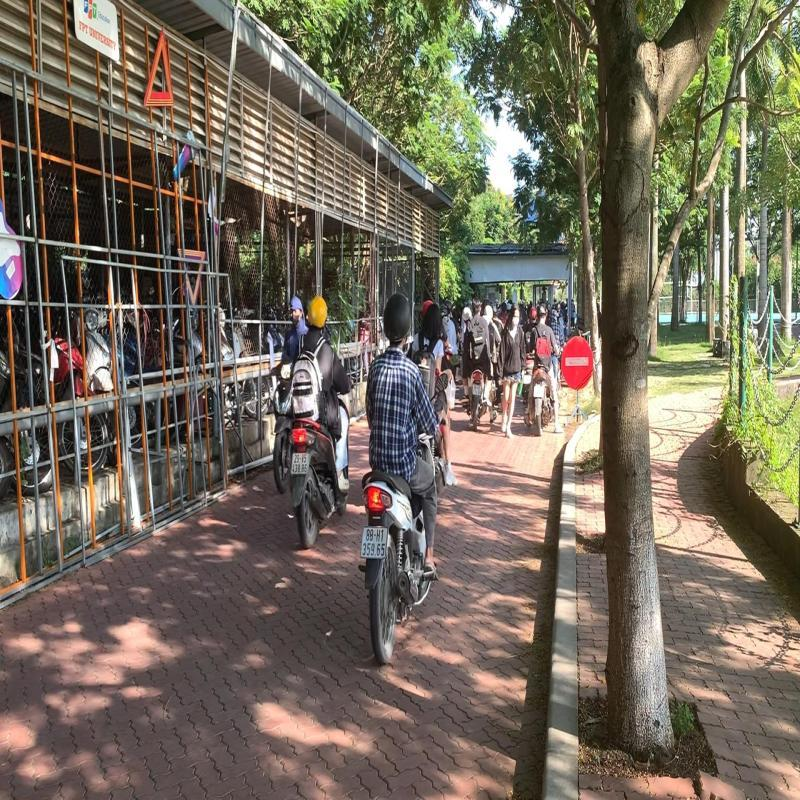helmet: (383, 293, 412, 348), (309, 294, 328, 330)
licenseplate: (360, 527, 390, 559), (292, 453, 310, 476), (473, 384, 482, 396)
motorcyclist: (360, 292, 445, 664), (290, 294, 354, 548), (462, 297, 494, 434)
nohelmet: (473, 296, 482, 316)
